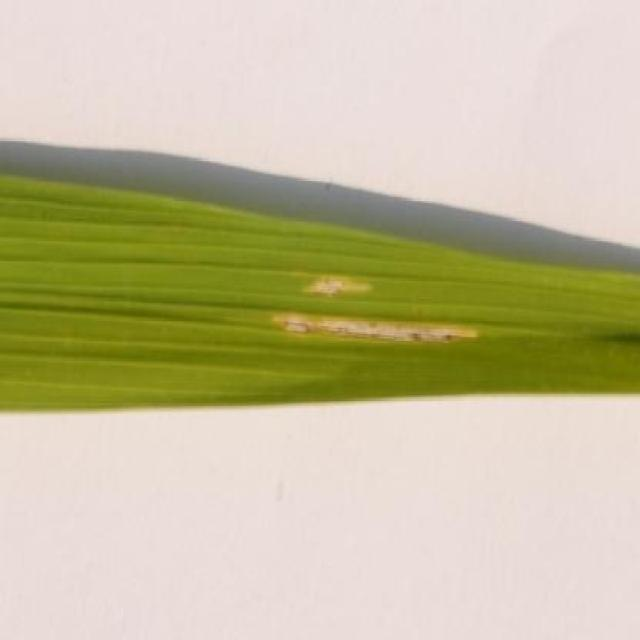Brown_Spot: (0, 164, 640, 419)
